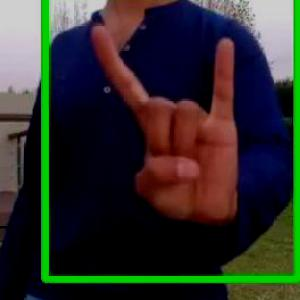takeoff-hand: (80, 11, 246, 251)
